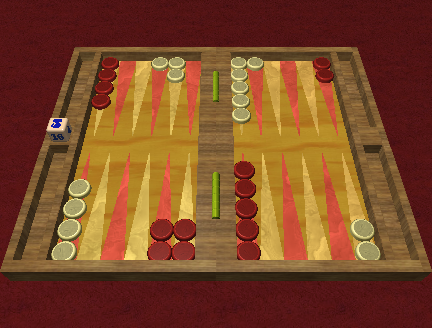bar: (200, 46, 231, 270)
checker_red: (150, 217, 174, 242), (235, 218, 259, 240), (173, 219, 197, 241), (146, 240, 173, 259), (234, 197, 258, 218), (235, 240, 261, 259), (233, 178, 256, 198), (233, 160, 256, 179), (173, 240, 194, 260), (89, 92, 112, 108), (314, 69, 335, 84), (93, 80, 114, 95), (100, 56, 120, 70), (94, 69, 118, 80), (312, 56, 332, 69)
checker_white: (349, 218, 375, 239), (63, 197, 87, 218), (57, 218, 81, 239), (355, 240, 381, 259), (51, 240, 77, 259), (68, 178, 91, 197), (232, 107, 252, 124), (231, 92, 250, 107), (150, 57, 168, 71), (231, 80, 250, 93), (230, 67, 249, 80), (247, 57, 264, 70), (167, 68, 185, 80), (168, 56, 186, 68), (229, 56, 247, 67)
endbox: (362, 141, 421, 262), (10, 144, 71, 261), (336, 51, 378, 128), (57, 49, 96, 128)
point: (342, 152, 380, 260), (53, 150, 91, 258), (76, 151, 111, 259), (322, 151, 356, 261), (100, 149, 130, 260), (303, 152, 332, 260), (123, 149, 149, 259), (236, 147, 261, 259), (282, 151, 307, 260), (260, 152, 284, 259), (150, 149, 173, 259), (173, 148, 195, 259), (92, 57, 118, 140), (295, 60, 319, 136), (112, 59, 135, 136), (315, 57, 338, 134), (280, 59, 300, 136), (132, 60, 152, 136), (246, 59, 264, 135), (263, 59, 281, 135), (153, 58, 169, 138), (169, 59, 185, 137), (185, 59, 200, 140), (231, 59, 246, 135)
